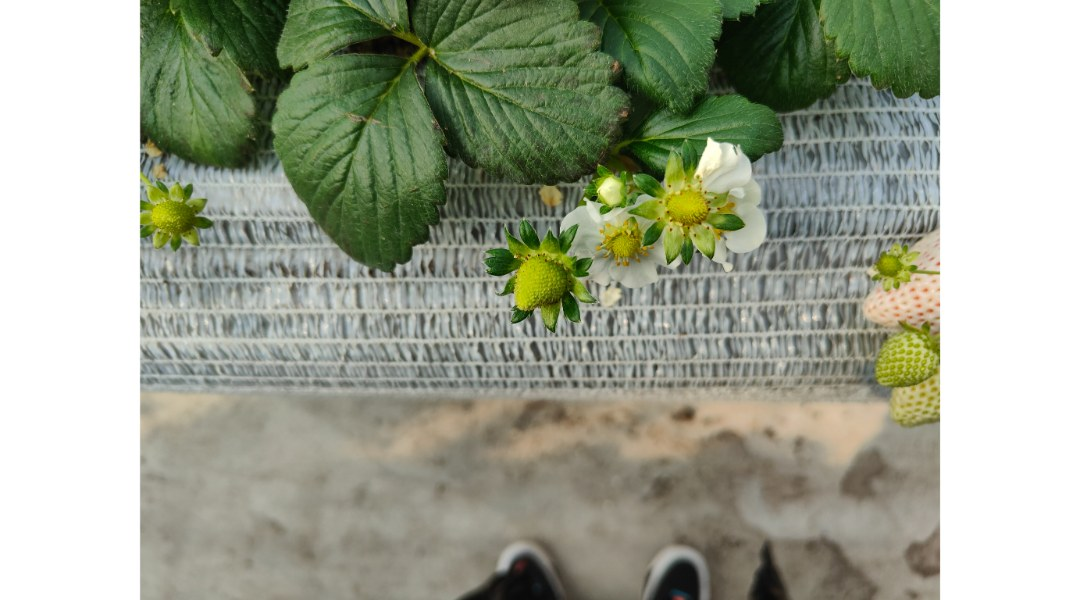berry: (834, 220, 977, 327), (120, 159, 219, 270), (494, 227, 584, 336), (882, 360, 986, 438), (640, 165, 720, 256), (861, 316, 944, 388)
flower: (571, 188, 674, 302), (694, 128, 766, 266)
